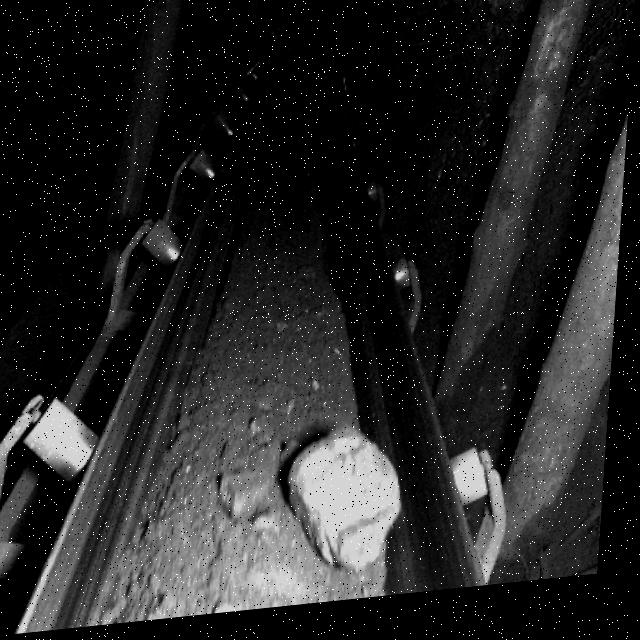large_sized_coal: (291, 432, 413, 581)
